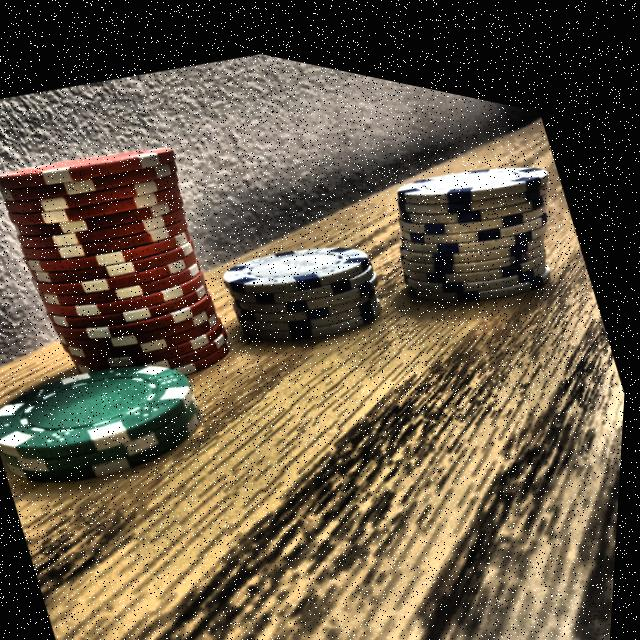Chip: (0, 78, 268, 426), (0, 289, 238, 546), (366, 89, 585, 333), (211, 193, 404, 370)
